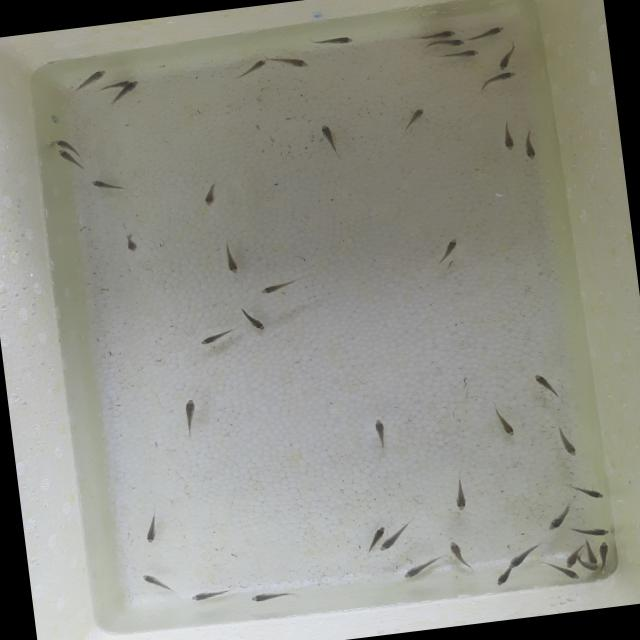fingerling: (398, 551, 444, 581), (174, 394, 205, 438), (190, 323, 238, 350), (86, 172, 132, 200), (431, 236, 464, 272), (242, 586, 301, 606), (256, 274, 305, 298), (566, 478, 608, 505), (216, 236, 242, 278), (448, 475, 475, 515), (311, 30, 358, 52), (504, 542, 538, 572), (444, 537, 472, 572), (552, 424, 578, 460), (400, 105, 429, 137), (478, 69, 516, 93), (571, 519, 611, 541), (315, 120, 340, 154), (187, 586, 234, 604), (142, 508, 164, 544), (530, 370, 558, 398), (434, 47, 482, 63), (423, 36, 468, 53), (200, 177, 223, 210), (140, 570, 170, 595), (491, 564, 522, 588), (276, 51, 313, 71), (75, 66, 110, 87), (594, 538, 616, 570), (367, 413, 389, 445), (242, 307, 269, 333), (494, 407, 516, 438), (362, 524, 388, 550), (54, 148, 82, 172), (542, 510, 570, 534), (521, 125, 539, 162), (238, 56, 272, 75), (414, 28, 458, 42), (119, 228, 142, 254), (472, 22, 509, 38), (499, 118, 516, 152), (560, 546, 584, 570), (492, 47, 514, 72), (118, 78, 144, 96), (560, 568, 582, 584), (378, 537, 398, 554), (51, 135, 73, 149), (582, 561, 602, 576)
